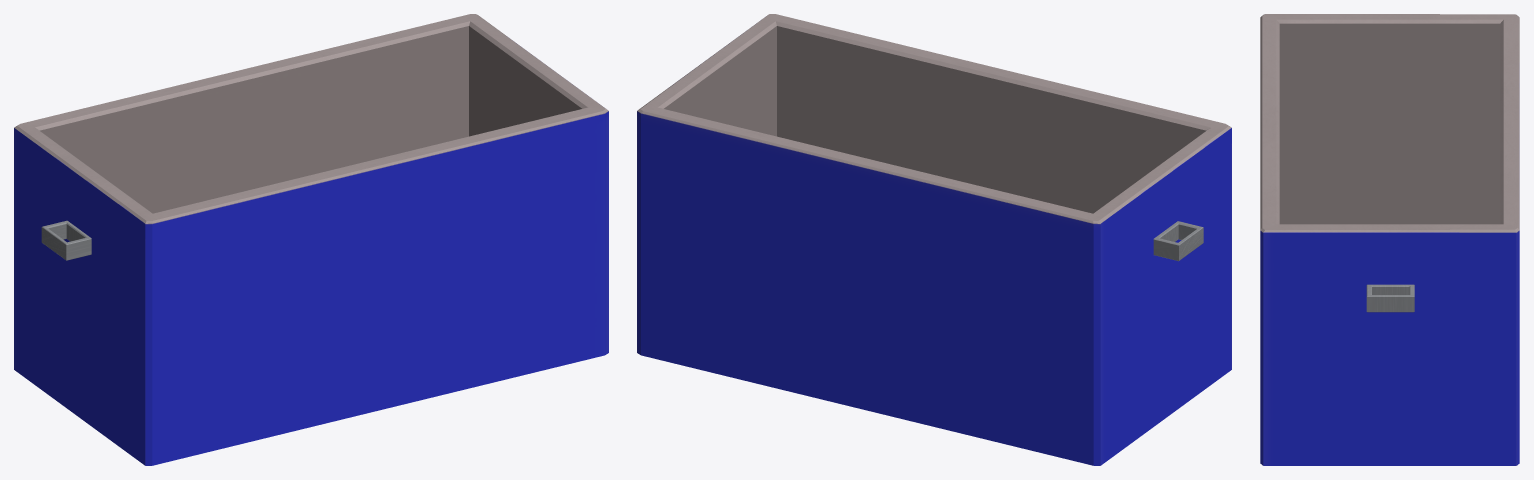
File: cooler.fbx
The picture shows the model from 3 angles, left to right: view 1: azimuth 30°, elevation 25°; view 2: azimuth 150°, elevation 25°; view 3: azimuth 270°, elevation 25°; orthographic projection. The views are drawn at different scales.
Parts seen in each view (by area): view 1: cooler; view 2: cooler; view 3: cooler.
Boxes of the visible parts, box(x1,y1,x2,y2) form: cooler: box(14, 14, 608, 465); cooler: box(637, 14, 1231, 465); cooler: box(1260, 14, 1519, 465).
Size of the model in its own units: 441 by 200 by 200.
Materials: 1 (1 with a texture image).
